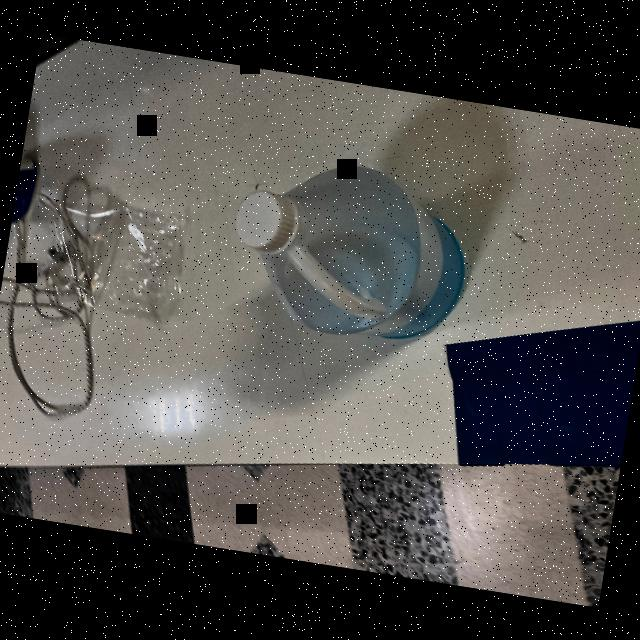chemical_plastic_gallon: (219, 142, 482, 356)
